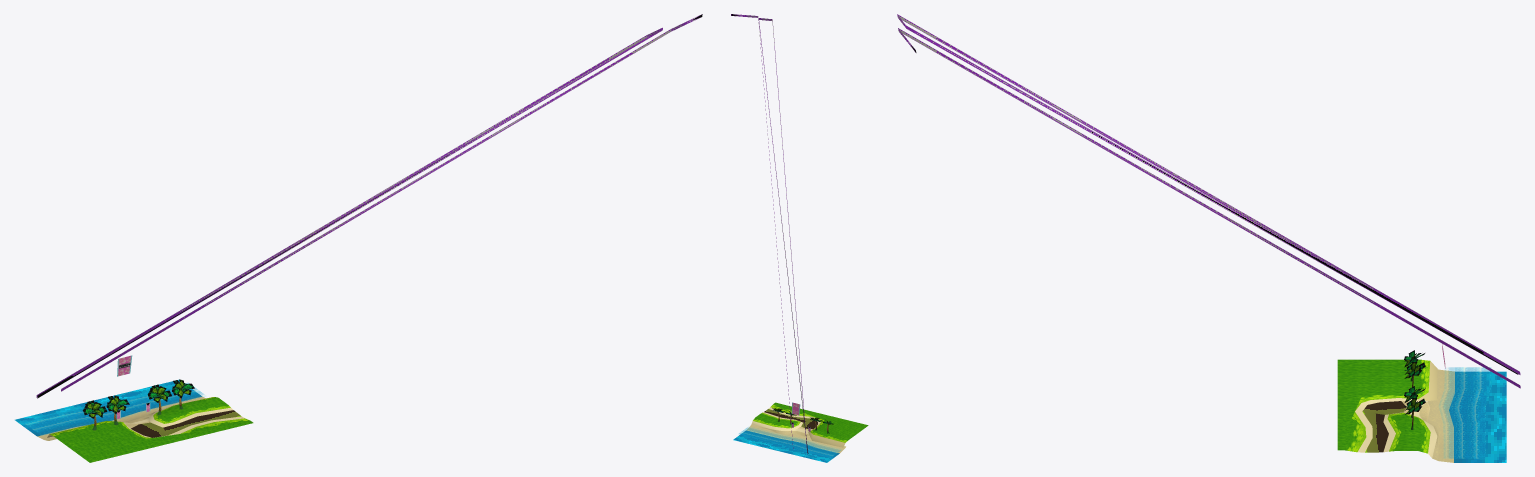
3 renders of one model, left to right at view 1: azimuth 30°, elevation 25°; view 2: azimuth 150°, elevation 25°; view 3: azimuth 270°, elevation 25°, orthographic. The views are drawn at different scales.
Parts seen in each view (by area): view 1: fasout_s; view 2: fasout_s; view 3: fasout_s.
Boxes of the visible parts, <box> form: fasout_s: <box>15,14,702,462</box>; fasout_s: <box>731,14,868,462</box>; fasout_s: <box>897,14,1520,462</box>.
Bounding box in the file's own units: 13.52 × 14.85 × 15.01.
Materials: 18 (18 with a texture image).
